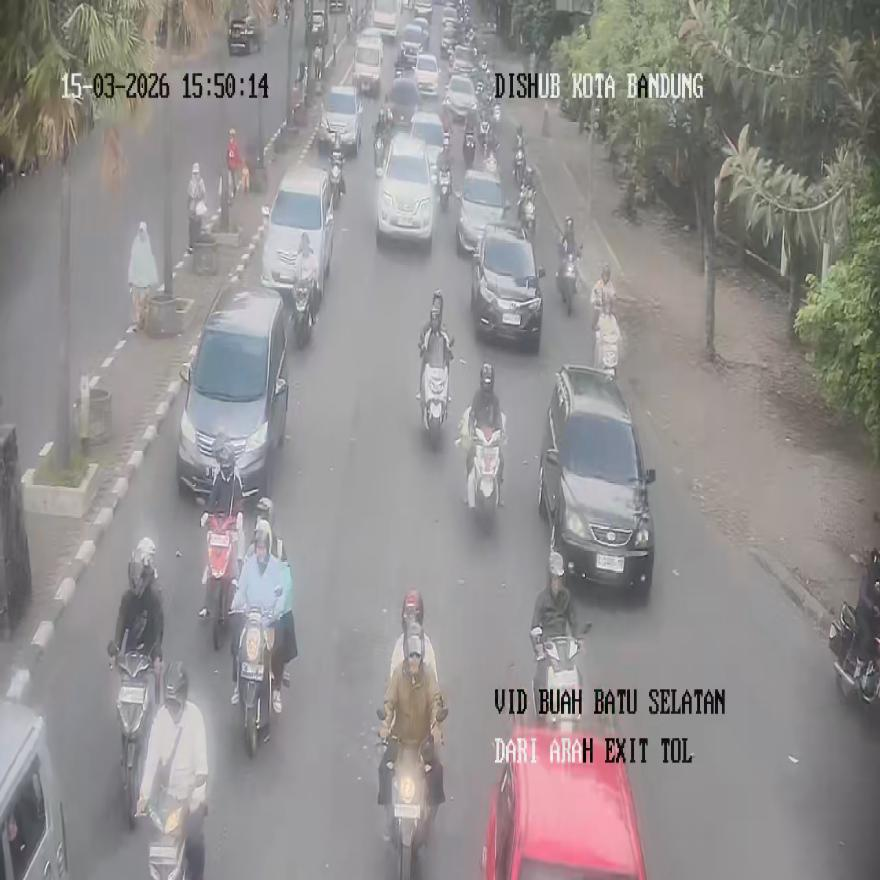Mobil: (538, 363, 656, 595), (480, 724, 645, 878), (176, 287, 287, 501), (0, 699, 69, 878), (260, 165, 334, 309), (471, 222, 544, 352), (376, 131, 435, 248)
Motor: (376, 705, 446, 878), (108, 642, 162, 825), (531, 622, 590, 732), (234, 604, 273, 756), (828, 602, 880, 706), (201, 512, 239, 650), (146, 786, 190, 880), (466, 417, 503, 523), (419, 344, 450, 444), (292, 273, 316, 347), (558, 242, 582, 315), (594, 313, 619, 379), (518, 188, 536, 240), (329, 148, 344, 205), (512, 123, 525, 186), (437, 162, 452, 212), (462, 128, 475, 168)
